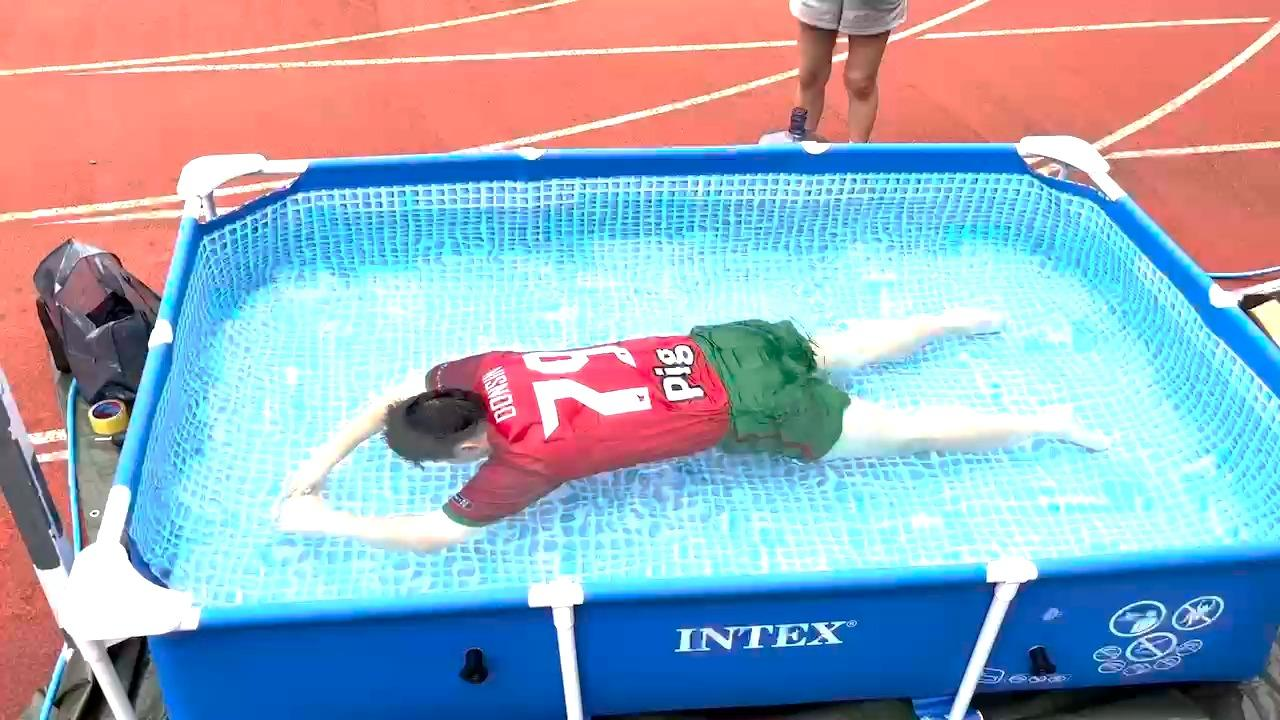Drowning: (227, 277, 1123, 547)
